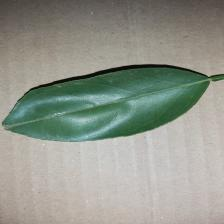healthy: (7, 50, 221, 141)
